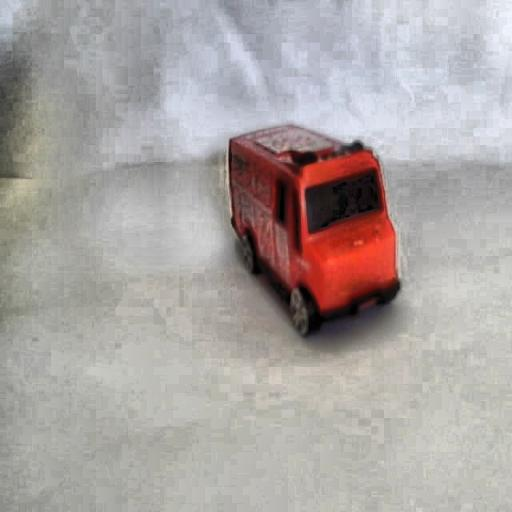fire_truck: (222, 115, 404, 340), (236, 151, 275, 236)
